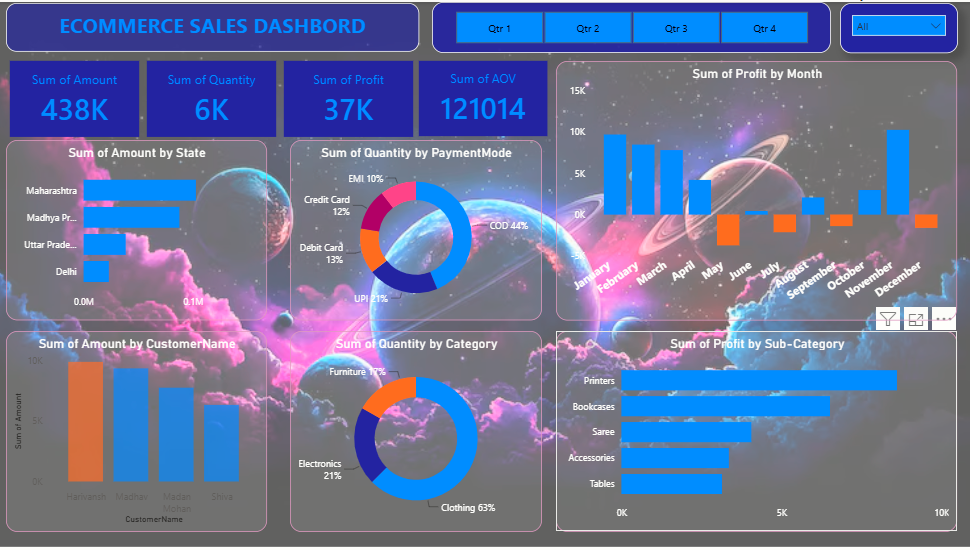

The dashboard page shown, as its layout file describes it:
{"tool":"powerbi","page":{"name":"Page 1","canvas":[1280,720],"ordinal":0},"visuals":[{"type":"textbox","box":[11.8,1.3,542.6,64.4],"z":0},{"type":"slicer","title":"Profit by Month","fields":{"Values":["Orders.Order Date.Variation.Date Hierarchy.Quarter"]},"box":[571.1,0,524.1,67.2],"z":1000},{"type":"barChart","fields":{"Y":["Sum(Details.Profit)"],"Category":["Details.Sub-Category"]},"box":[734.1,431.7,527.5,263.7],"z":2000},{"type":"donutChart","fields":{"Y":["Sum(Details.Quantity)"],"Category":["Details.Category"]},"box":[384.7,431.7,330.9,263.7],"z":3000},{"type":"donutChart","fields":{"Y":["Sum(Details.Quantity)"],"Category":["Details.PaymentMode"]},"box":[384.7,181.4,330.9,236.9],"z":4000},{"type":"cardVisual","fields":{"Data":["Sum(Details.Amount)"]},"box":[11.8,72.2,180,110],"z":5000},{"type":"cardVisual","fields":{"Data":["Sum(Details.Quantity)"]},"box":[191.5,72.2,180,110],"z":6000},{"type":"cardVisual","fields":{"Data":["Sum(Details.Profit)"]},"box":[371.2,72.2,180,110],"z":7000},{"type":"cardVisual","fields":{"Data":["Sum(Details.AOV)"]},"box":[549.3,72.2,179.7,109.2],"z":8000},{"type":"barChart","fields":{"Category":["Orders.State"],"Y":["Sum(Details.Amount)"]},"box":[11.8,181.4,342.7,236.9],"z":9000},{"type":"columnChart","fields":{"Category":["Orders.CustomerName"],"Y":["Sum(Details.Amount)"]},"box":[11.8,431.7,342.7,263.7],"z":10000},{"type":"slicer","title":"Profit by Month","fields":{"Values":["Orders.State"]},"box":[1107,1.7,154.5,65.5],"z":11000},{"type":"columnChart","fields":{"Category":["Orders.Order Date.Variation.Date Hierarchy.Month"],"Y":["Sum(Details.Profit)"]},"box":[734.1,77.3,527.5,341],"z":12000}]}

Visuals, with their boxes in screenshot pixels (x1, y1, x2, y2), scaled from the page's 1280x720 canvas onto the 970x550 screenshot:
textbox: (9, 1, 420, 50)
"Profit by Month" slicer: (433, 0, 830, 51)
barChart - Sum(Details.Profit) x Details.Sub-Category: (556, 330, 956, 531)
donutChart - Sum(Details.Quantity) x Details.Category: (292, 330, 542, 531)
donutChart - Sum(Details.Quantity) x Details.PaymentMode: (292, 139, 542, 320)
cardVisual - Sum(Details.Amount): (9, 55, 145, 139)
cardVisual - Sum(Details.Quantity): (145, 55, 282, 139)
cardVisual - Sum(Details.Profit): (281, 55, 418, 139)
cardVisual - Sum(Details.AOV): (416, 55, 552, 139)
barChart - Orders.State x Sum(Details.Amount): (9, 139, 269, 320)
columnChart - Orders.CustomerName x Sum(Details.Amount): (9, 330, 269, 531)
"Profit by Month" slicer: (839, 1, 956, 51)
columnChart - Orders.Order Date.Variation.Date Hierarchy.Month x Sum(Details.Profit): (556, 59, 956, 320)
